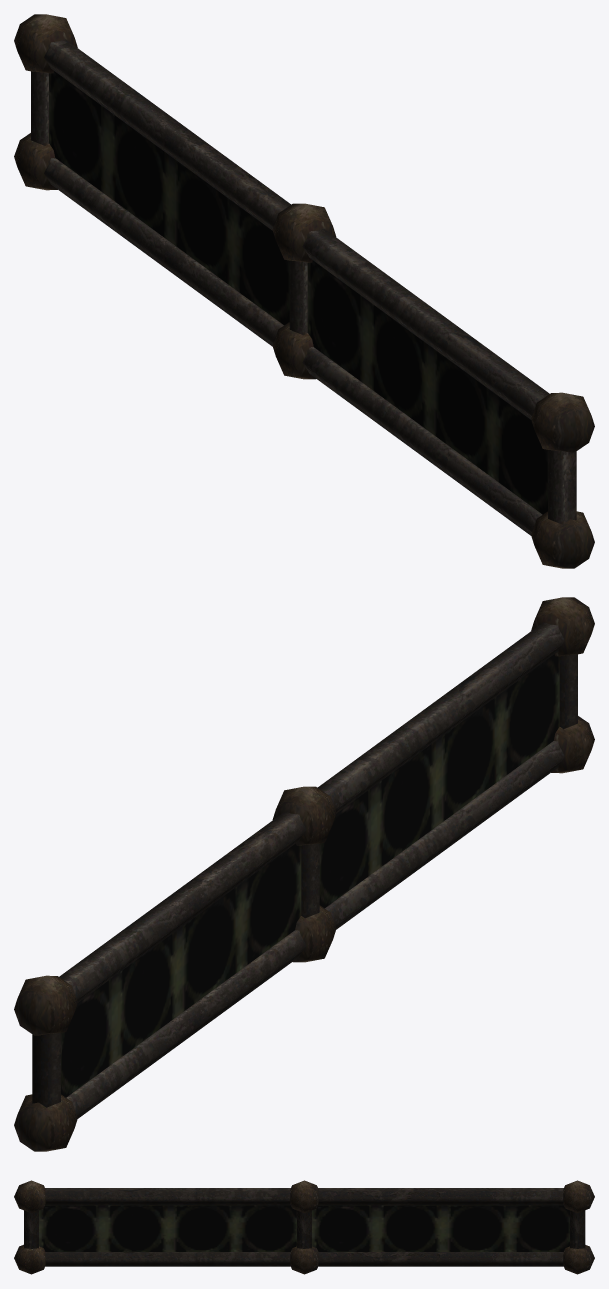
File: railings_factory_2m_support_dirty.DAE
3 renders of one model, top to bottom at view 1: azimuth 30°, elevation 25°; view 2: azimuth 150°, elevation 25°; view 3: azimuth 270°, elevation 25°, orthographic. The views are drawn at different scales.
Visible parts, largest first — view 1: Object141, Object142; view 2: Object141, Object142; view 3: Object142, Object141.
Boxes of the visible parts, x1,y1,x2,y2 form: Object141: (14, 14, 594, 568); Object142: (49, 71, 547, 514); Object141: (14, 597, 594, 1151); Object142: (61, 654, 559, 1097); Object142: (39, 1205, 569, 1251); Object141: (14, 1180, 594, 1274).
Size of the model in its own units: 0.12 by 0.3521 by 2.
